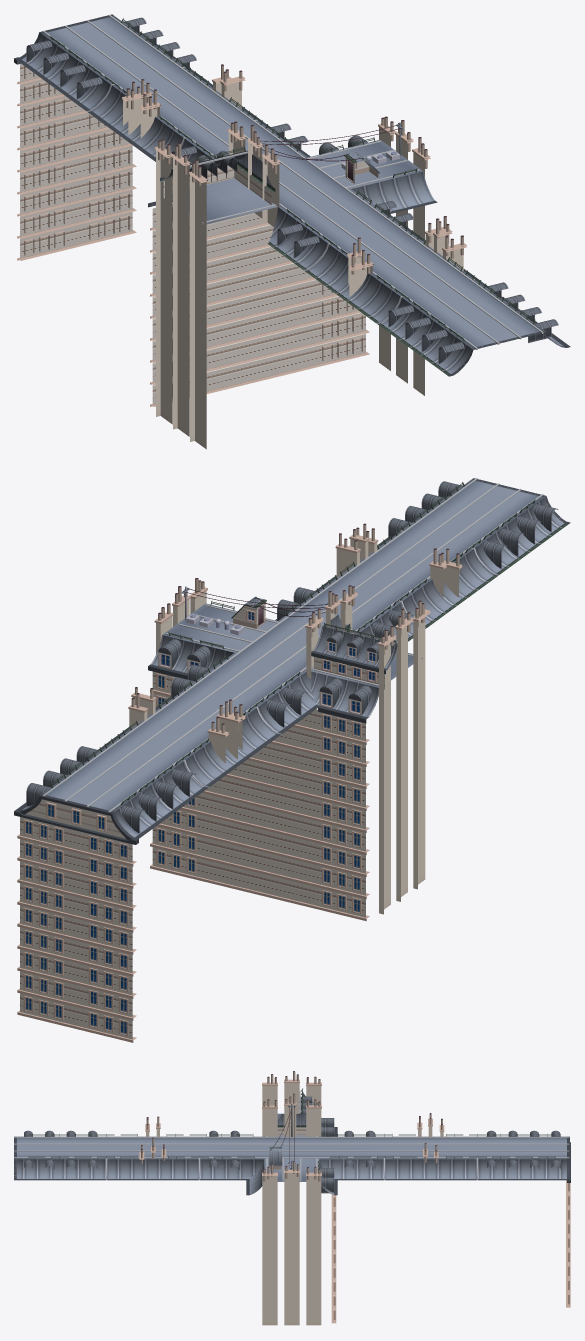
The model's file is Rooftop_Chunk_01.FBX.
3 views of the same model, one above another, from view 1: azimuth 30°, elevation 25°; view 2: azimuth 150°, elevation 25°; view 3: azimuth 270°, elevation 25° (orthographic). The views are drawn at different scales.
Visible parts, largest first — view 1: Rooftop_Chunk_01, Rooftop_Flat_Front_Wall_Chunk_01, Rooftop_Road_Chunk_01; view 2: Rooftop_Flat_Front_Wall_Chunk_01, Rooftop_Chunk_01, Rooftop_Road_Chunk_01; view 3: Rooftop_Chunk_01, Rooftop_Road_Chunk_01, Rooftop_Flat_Front_Wall_Chunk_01.
Boxes of the visible parts, x1,y1,x2,y2 form: Rooftop_Chunk_01: [14, 14, 570, 449]; Rooftop_Flat_Front_Wall_Chunk_01: [17, 63, 369, 406]; Rooftop_Road_Chunk_01: [42, 14, 543, 349]; Rooftop_Flat_Front_Wall_Chunk_01: [17, 671, 369, 1042]; Rooftop_Chunk_01: [14, 478, 570, 914]; Rooftop_Road_Chunk_01: [42, 478, 543, 815]; Rooftop_Chunk_01: [14, 1071, 570, 1325]; Rooftop_Road_Chunk_01: [14, 1137, 569, 1158]; Rooftop_Flat_Front_Wall_Chunk_01: [331, 1180, 570, 1323].
Bounding box in the file's own units: 137 × 165 × 451.
